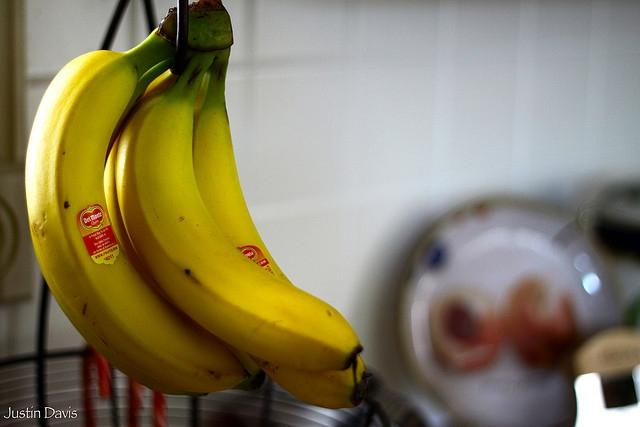banana: (24, 7, 252, 395), (115, 49, 364, 372), (192, 45, 373, 410), (104, 68, 186, 314)
